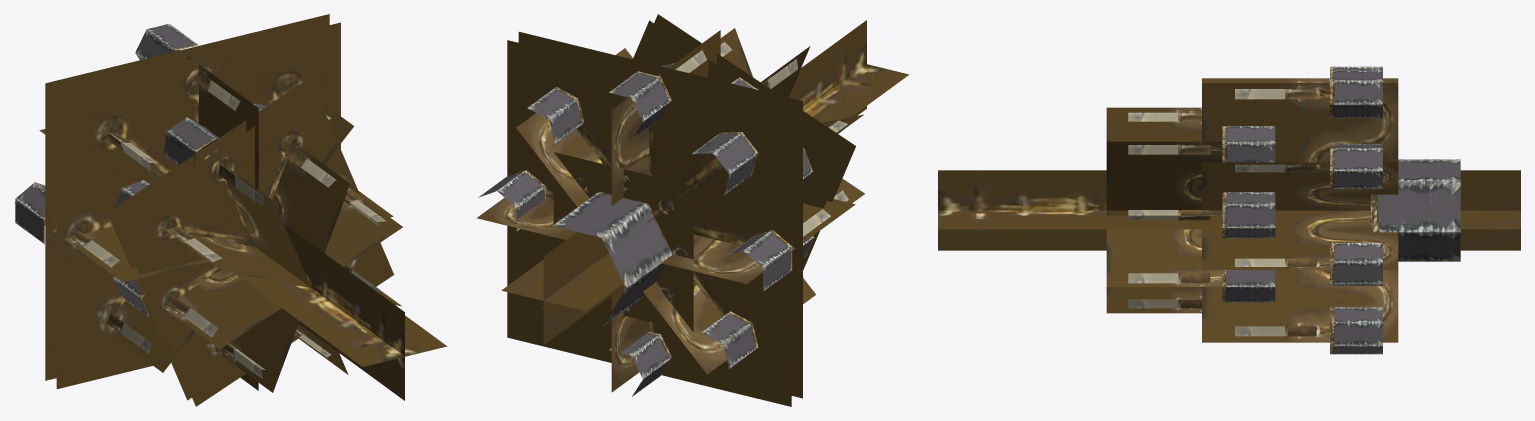
The model's file is light_chandalier_off.glb.
The picture shows the model from 3 angles, left to right: view 1: azimuth 30°, elevation 25°; view 2: azimuth 150°, elevation 25°; view 3: azimuth 270°, elevation 25°; orthographic projection. The views are drawn at different scales.
Size of the model in its own units: 36.2 by 36.2 by 71.
3 materials, 3 textured.
